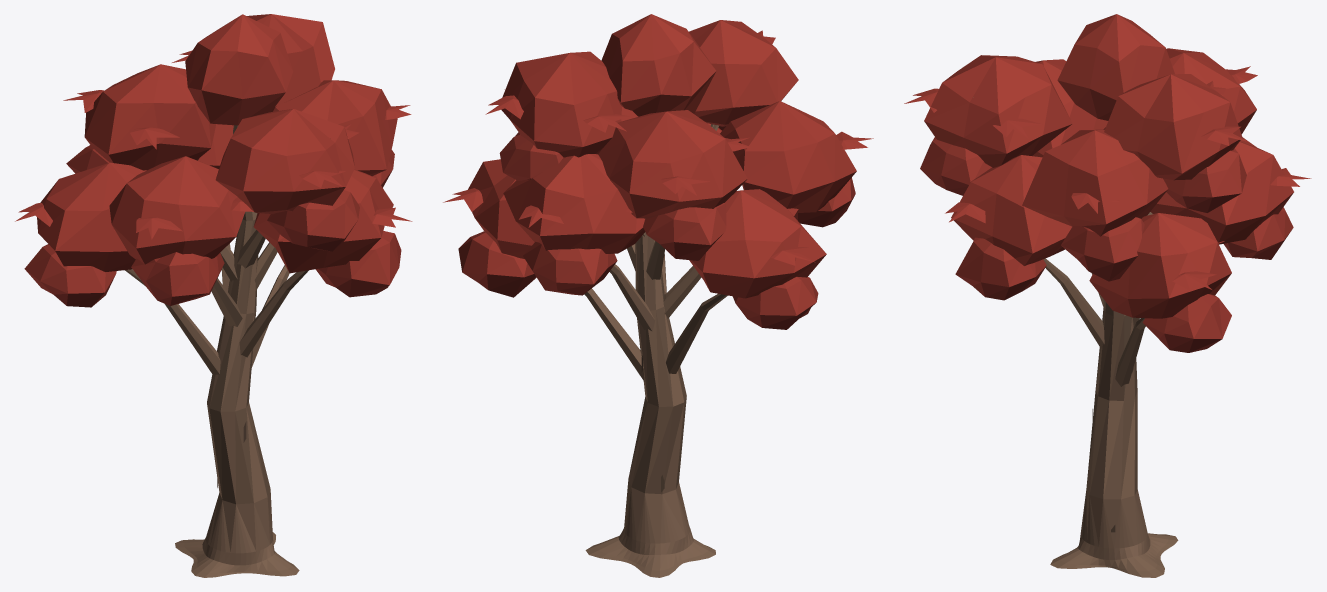
The model's file is maple_autumn.glb.
3 views of the same model, side by side, from view 1: azimuth 30°, elevation 25°; view 2: azimuth 150°, elevation 25°; view 3: azimuth 270°, elevation 25° (orthographic).
Visible parts, largest first — view 1: leaves, branches; view 2: leaves, branches; view 3: leaves, branches.
Boxes of the visible parts, left/top/right/bottom form: leaves: left=15, top=14, right=412, bottom=307; branches: left=125, top=125, right=308, bottom=577; leaves: left=443, top=14, right=873, bottom=329; branches: left=584, top=124, right=727, bottom=577; leaves: left=904, top=14, right=1311, bottom=352; branches: left=973, top=97, right=1178, bottom=577.
Size of the model in its own units: 3.3 by 4.7 by 3.23.
